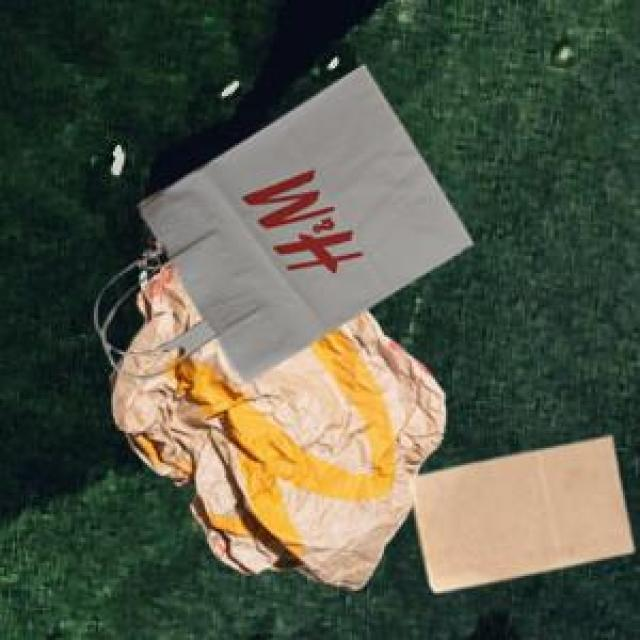paper: (96, 62, 467, 378), (107, 260, 442, 585), (408, 433, 629, 589)
